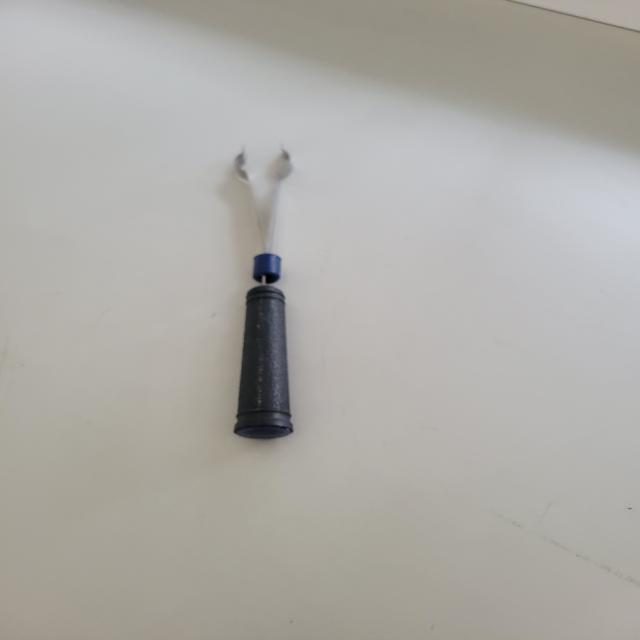TestTube_Holder: (206, 108, 333, 464)
